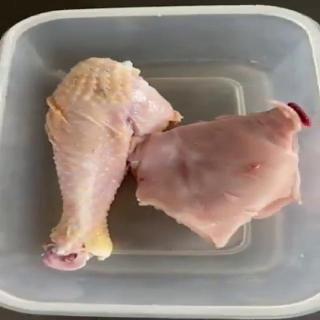Ayam: (41, 57, 185, 271), (127, 100, 314, 250)
